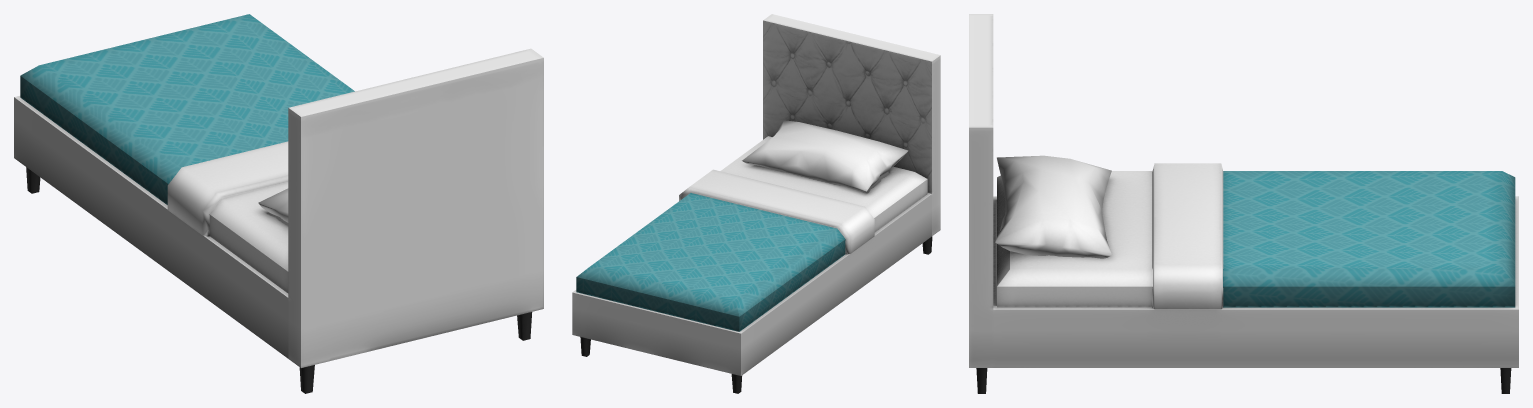
File: FUR0210025.fbx
3 views of the same model, side by side, from view 1: azimuth 30°, elevation 25°; view 2: azimuth 150°, elevation 25°; view 3: azimuth 270°, elevation 25° (orthographic). The views are drawn at different scales.
Visible parts, largest first — view 1: smFUR0210025; view 2: smFUR0210025; view 3: smFUR0210025.
Part boxes in pixels (x1,y1,x2,y2): smFUR0210025: (14, 14, 543, 393); smFUR0210025: (572, 14, 940, 393); smFUR0210025: (969, 14, 1518, 393).
Bounding box in the file's own units: 125 × 138 × 253.
1 material, 1 textured.
